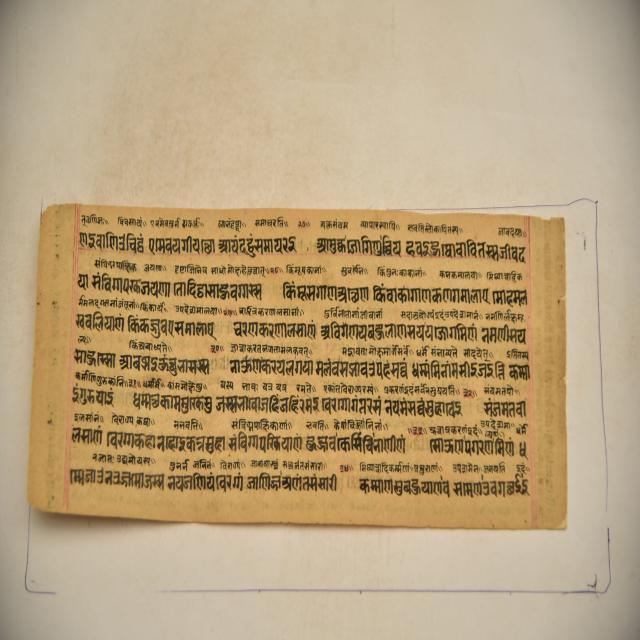text_paragraph: (26, 205, 564, 531)
